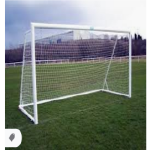goals: (18, 21, 134, 125)
